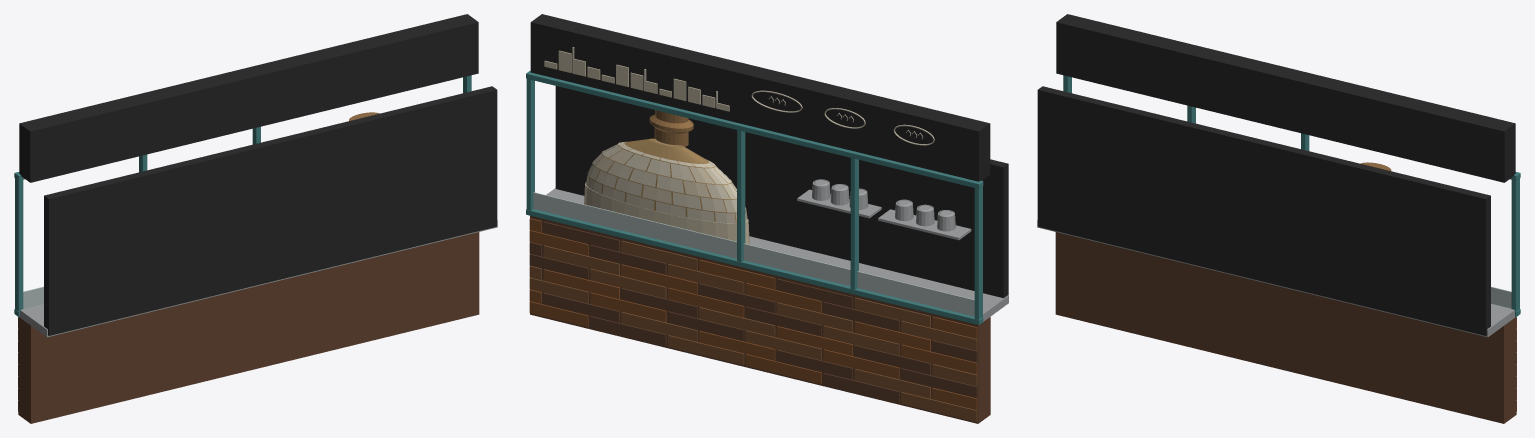
File: kitchen-window.glb
3 views of the same model, side by side, from view 1: azimuth 30°, elevation 25°; view 2: azimuth 150°, elevation 25°; view 3: azimuth 330°, elevation 25° (orthographic).
Visible parts, largest first — view 1: KervanKitchenWindow; view 2: KervanKitchenWindow; view 3: KervanKitchenWindow.
Part boxes in pixels (left/top/right/bottom): KervanKitchenWindow: left=14, top=14, right=497, bottom=423; KervanKitchenWindow: left=526, top=14, right=1008, bottom=423; KervanKitchenWindow: left=1037, top=14, right=1520, bottom=423.
Size of the model in its own units: 4.2 by 2.58 by 0.5132.
